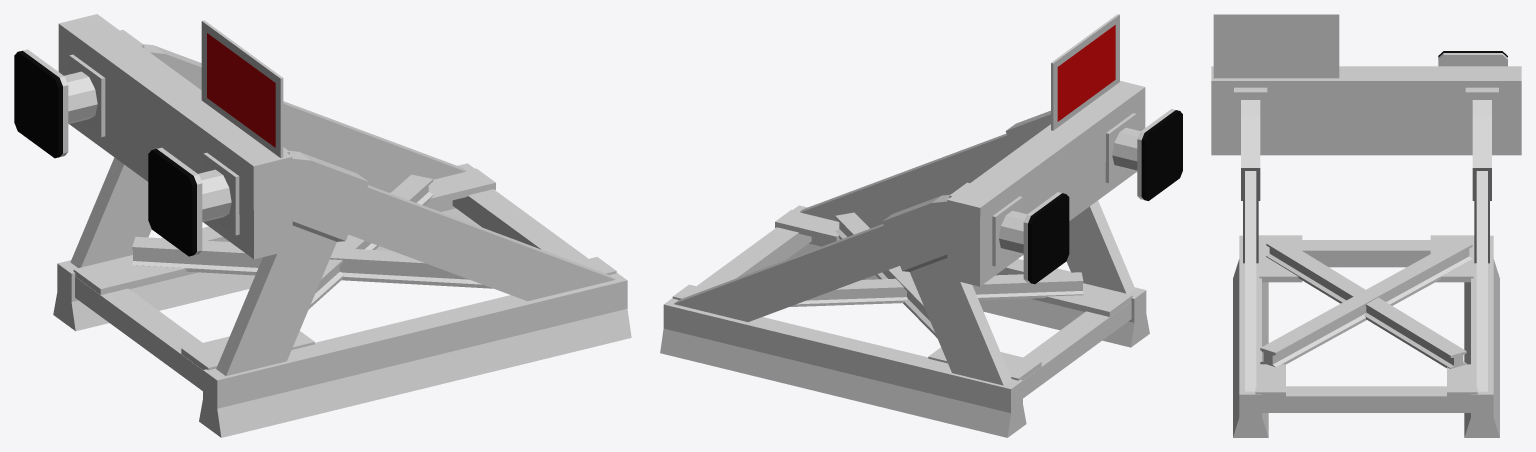
The model's file is buffer-stop.glb.
The picture shows the model from 3 angles, left to right: view 1: azimuth 30°, elevation 25°; view 2: azimuth 150°, elevation 25°; view 3: azimuth 270°, elevation 25°; orthographic projection. The views are drawn at different scales.
Visible parts, largest first — view 1: Cube / Metal, Cube.001_Cube.002 / Metal, Cube / Rubber, Cube.001_Cube.002 / RedMetal, Cube.001_Cube.002 / WhiteMetal; view 2: Cube / Metal, Cube.001_Cube.002 / Metal, Cube / Rubber, Cube.001_Cube.002 / RedMetal, Cube.001_Cube.002 / WhiteMetal; view 3: Cube / Metal, Cube.001_Cube.002 / Metal.
Part boxes in pixels (x1,y1,x2,y2): Cube / Metal: (23, 14, 631, 437); Cube.001_Cube.002 / Metal: (132, 20, 492, 309); Cube / Rubber: (14, 50, 196, 256); Cube.001_Cube.002 / RedMetal: (207, 33, 275, 147); Cube.001_Cube.002 / WhiteMetal: (201, 21, 280, 157); Cube / Metal: (660, 81, 1175, 437); Cube.001_Cube.002 / Metal: (790, 14, 1119, 338); Cube / Rubber: (1028, 110, 1182, 284); Cube.001_Cube.002 / RedMetal: (1057, 25, 1115, 121); Cube.001_Cube.002 / WhiteMetal: (1053, 15, 1119, 130); Cube / Metal: (1211, 53, 1521, 437); Cube.001_Cube.002 / Metal: (1213, 14, 1472, 368).
Bounding box in the file's own units: 4.58 × 3.51 × 3.48.
